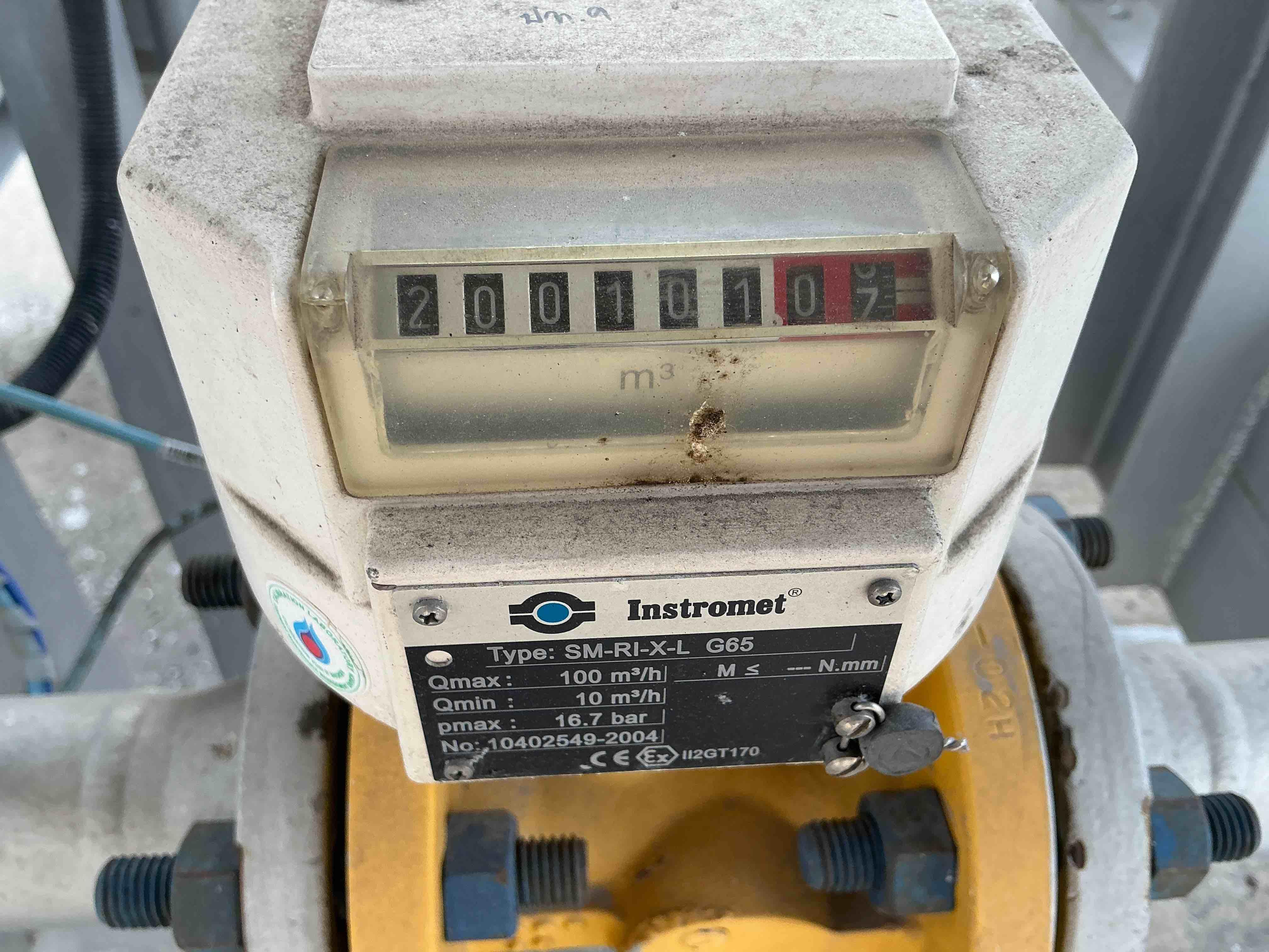analog_dial: (370, 248, 936, 339)
